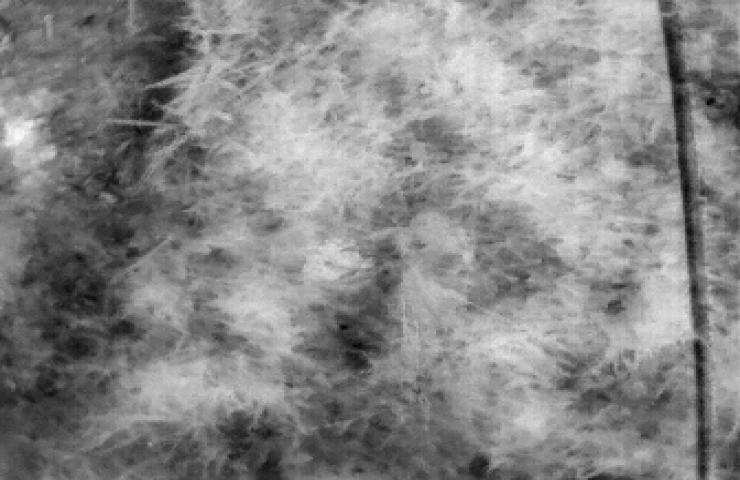landmines: (301, 235, 375, 286)
